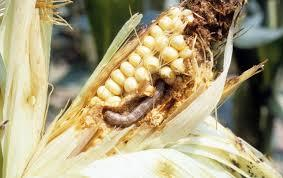fallarmy_worm: (103, 81, 165, 131)
